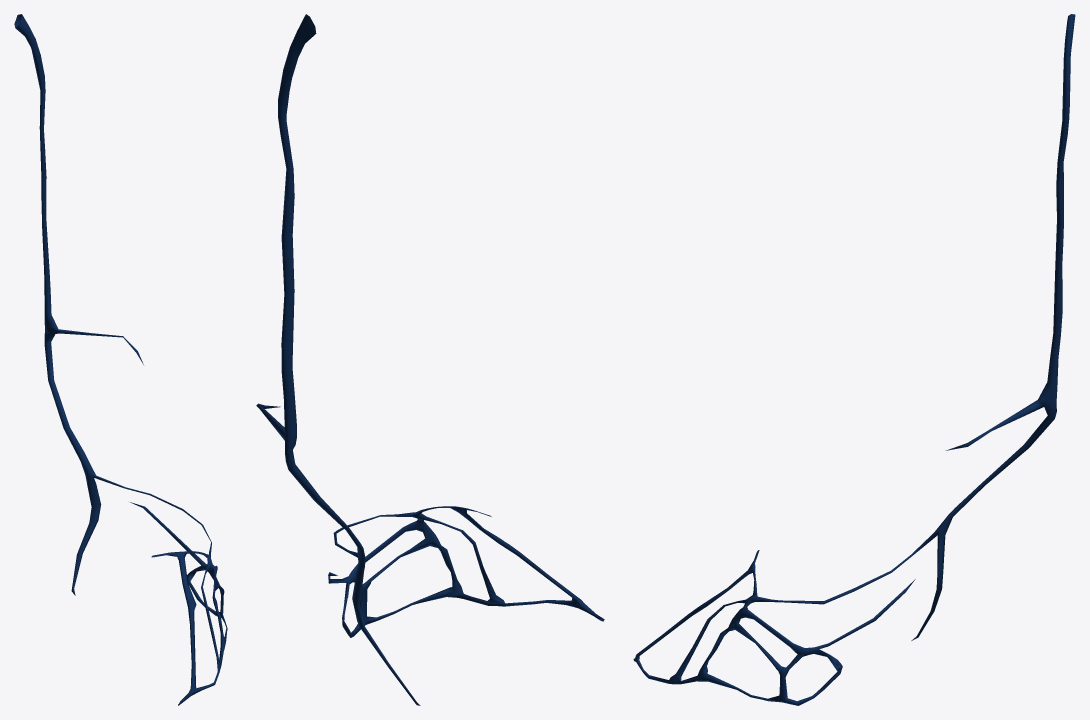
File: R vena digitales medialis.fbx
3 renders of one model, left to right at view 1: azimuth 30°, elevation 25°; view 2: azimuth 150°, elevation 25°; view 3: azimuth 270°, elevation 25°, orthographic. The views are drawn at different scales.
Visible parts, largest first — view 1: R vena digitales medialis, R vena digitales medialis low; view 2: R vena digitales medialis, R vena digitales medialis low; view 3: R vena digitales medialis, R vena digitales medialis low.
Part boxes in pixels (x1,y1,x2,y2): R vena digitales medialis: (14,16,227,705); R vena digitales medialis low: (14,14,226,705); R vena digitales medialis: (256,14,604,705); R vena digitales medialis low: (260,20,603,698); R vena digitales medialis: (633,14,1075,705); R vena digitales medialis low: (634,14,1074,702).
Size of the model in its own units: 2.52 by 12.28 by 7.43.
